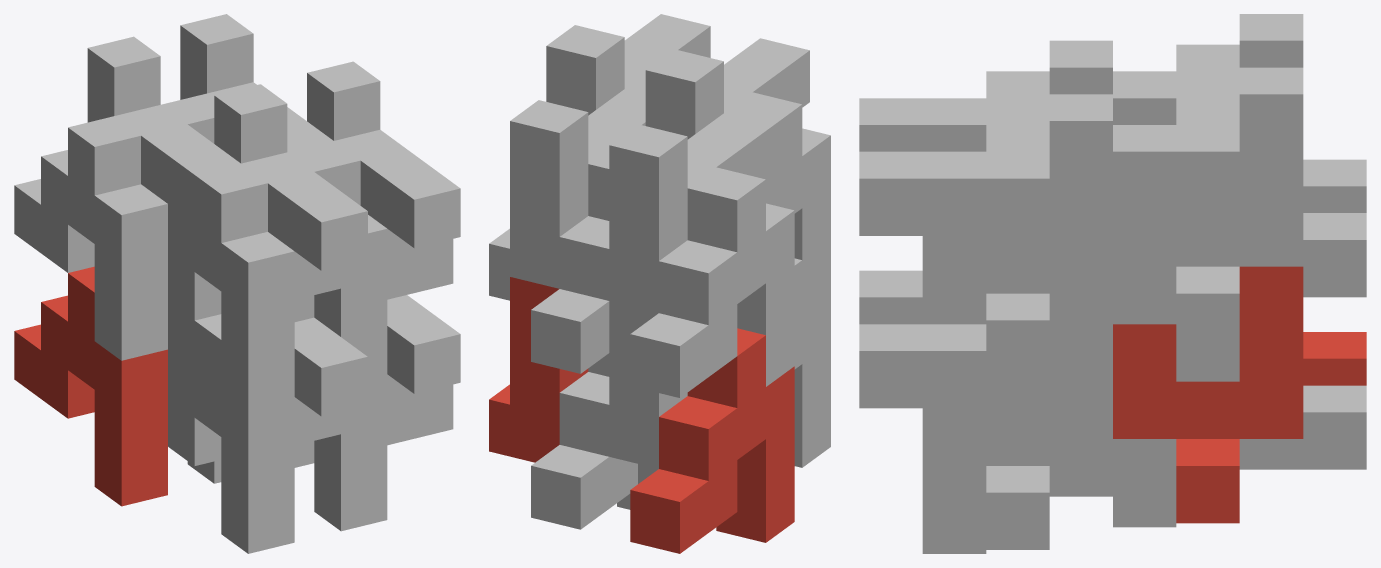
File: tiling.obj
The picture shows the model from 3 angles, left to right: view 1: azimuth 30°, elevation 25°; view 2: azimuth 150°, elevation 25°; view 3: azimuth 270°, elevation 25°; orthographic projection. The views are drawn at different scales.
Parts seen in each view (by area): view 1: copy_1_domain_3, copy_1_domain_4, copy_1_domain_1, copy_1_domain_2, copy_2_domain_8, copy_2_domain_4, copy_2_domain_3, copy_1_domain_8, copy_2_domain_6, copy_1_domain_6, copy_2_domain_2, copy_2_domain_7 (+2 smaller); view 2: copy_1_domain_3, copy_1_domain_1, copy_2_domain_3, copy_2_domain_7, copy_1_domain_7, copy_1_domain_5, copy_1_domain_4, copy_2_domain_4, copy_2_domain_8, copy_2_domain_5, copy_2_domain_1, copy_1_domain_2 (+1 smaller); view 3: copy_2_domain_8, copy_2_domain_6, copy_2_domain_7, copy_2_domain_5, copy_1_domain_6, copy_1_domain_8, copy_1_domain_7, copy_1_domain_5, copy_2_domain_4, copy_1_domain_3, copy_2_domain_3, copy_2_domain_2 (+2 smaller).
Boxes of the visible parts, box(x1,y1,x2,y2) form: copy_1_domain_3: box(14, 105, 186, 360); copy_1_domain_4: box(168, 152, 313, 408); copy_1_domain_1: box(14, 266, 167, 506); copy_1_domain_2: box(168, 314, 294, 553); copy_2_domain_8: box(307, 61, 460, 299); copy_2_domain_4: box(214, 84, 367, 321); copy_2_domain_3: box(87, 36, 240, 222); copy_1_domain_8: box(288, 129, 406, 378); copy_2_domain_6: box(387, 295, 460, 445); copy_1_domain_6: box(314, 374, 387, 531); copy_2_domain_2: box(294, 317, 367, 467); copy_2_domain_7: box(180, 14, 333, 152); copy_1_domain_3: box(630, 160, 794, 397); copy_1_domain_1: box(630, 328, 794, 553); copy_2_domain_3: box(609, 113, 773, 312); copy_2_domain_7: box(489, 89, 645, 300); copy_1_domain_7: box(531, 136, 612, 373); copy_1_domain_5: box(531, 353, 637, 529); copy_1_domain_4: box(724, 85, 830, 311); copy_2_domain_4: box(645, 38, 809, 139); copy_2_domain_8: box(546, 14, 710, 115); copy_2_domain_5: box(489, 277, 588, 462); copy_2_domain_1: box(609, 301, 687, 483); copy_1_domain_2: box(794, 258, 830, 467); copy_2_domain_8: box(859, 94, 1112, 377); copy_2_domain_6: box(859, 293, 1112, 549); copy_2_domain_7: box(1113, 67, 1303, 350); copy_2_domain_5: box(1113, 266, 1303, 523); copy_1_domain_6: box(922, 377, 1176, 553); copy_1_domain_8: box(922, 125, 1176, 324); copy_1_domain_7: box(1176, 98, 1366, 297); copy_1_domain_5: box(1113, 351, 1366, 527); copy_2_domain_4: box(859, 40, 1112, 151); copy_1_domain_3: box(1176, 44, 1366, 212); copy_2_domain_3: box(1113, 14, 1303, 124); copy_2_domain_2: box(859, 270, 922, 324).
Bounding box in the file's own units: 6 × 8 × 8.
